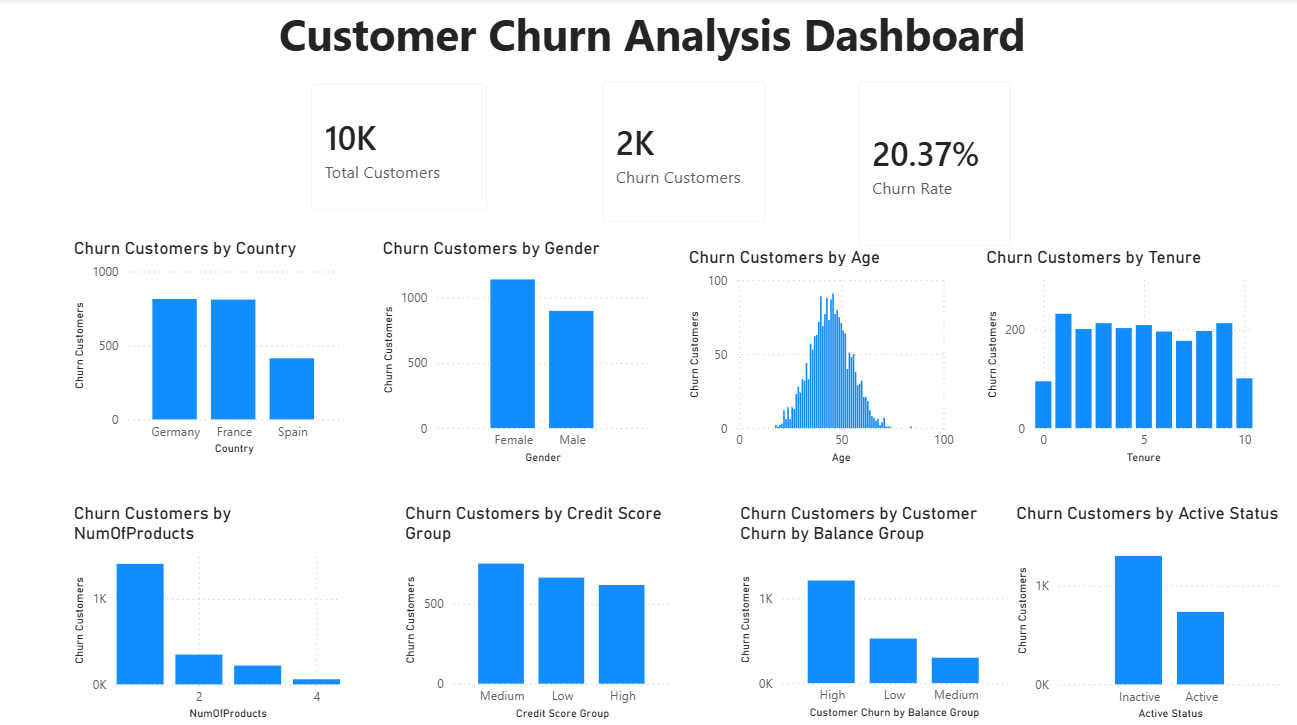

This screenshot's page, from the dashboard's own definition file:
{"tool":"powerbi","page":{"name":"Page 1","canvas":[1280,720],"ordinal":0},"visuals":[{"type":"cardVisual","fields":{"Data":["churn.Count of CustomerID"]},"box":[288.6,66,206.7,159],"z":1000},{"type":"cardVisual","fields":{"Data":["churn.Customer Exited with number 1"]},"box":[573.5,63.6,193.2,172.4],"z":2000},{"type":"cardVisual","fields":{"Data":["churn.Churn Rate"]},"box":[824.2,63.4,183.4,195.7],"z":3000},{"type":"clusteredColumnChart","fields":{"Category":["churn.Geography"],"Y":["churn.Churn Customers"]},"box":[68.5,233.9,270.2,217.7],"z":4000},{"type":"clusteredColumnChart","fields":{"Y":["churn.Churn Customers"],"Category":["churn.Gender"]},"box":[370.5,233.6,270.2,226.2],"z":5000},{"type":"clusteredColumnChart","fields":{"Y":["churn.Churn Customers"],"Category":["churn.Age"]},"box":[670.1,242.4,270.2,217.7],"z":6000},{"type":"clusteredColumnChart","fields":{"Y":["churn.Churn Customers"],"Category":["churn.Tenure"]},"box":[961.1,242.4,270.2,217.7],"z":7000},{"type":"clusteredColumnChart","fields":{"Y":["churn.Churn Customers"],"Category":["churn.NumOfProducts"]},"box":[68.5,492.9,270.2,217.7],"z":8000},{"type":"clusteredColumnChart","fields":{"Category":["churn.Active Status"],"Y":["churn.Churn Customers"]},"box":[990.5,492.9,270.2,217.7],"z":9000},{"type":"clusteredColumnChart","fields":{"Category":["churn.Credit Score Group"],"Y":["churn.Churn Customers"]},"box":[392.5,492.9,270.2,217],"z":10000},{"type":"clusteredColumnChart","fields":{"Category":["churn.Churn Customers Based on the Balance"],"Y":["churn.Churn Customers"]},"box":[720.2,492.9,270.2,216.4],"z":11000},{"type":"textbox","box":[254.3,0,769.2,74.6],"z":12000}]}

Visuals, with their boxes in screenshot pixels (x1, y1, x2, y2), scaled from the page's 1280x720 canvas onto the 1297x725 screenshot:
cardVisual - churn.Count of CustomerID: {"x1": 292, "y1": 66, "x2": 502, "y2": 227}
cardVisual - churn.Customer Exited with number 1: {"x1": 581, "y1": 64, "x2": 777, "y2": 238}
cardVisual - churn.Churn Rate: {"x1": 835, "y1": 64, "x2": 1021, "y2": 261}
clusteredColumnChart - churn.Geography x churn.Churn Customers: {"x1": 69, "y1": 236, "x2": 343, "y2": 455}
clusteredColumnChart - churn.Churn Customers x churn.Gender: {"x1": 375, "y1": 235, "x2": 649, "y2": 463}
clusteredColumnChart - churn.Churn Customers x churn.Age: {"x1": 679, "y1": 244, "x2": 953, "y2": 463}
clusteredColumnChart - churn.Churn Customers x churn.Tenure: {"x1": 974, "y1": 244, "x2": 1248, "y2": 463}
clusteredColumnChart - churn.Churn Customers x churn.NumOfProducts: {"x1": 69, "y1": 496, "x2": 343, "y2": 716}
clusteredColumnChart - churn.Active Status x churn.Churn Customers: {"x1": 1004, "y1": 496, "x2": 1277, "y2": 716}
clusteredColumnChart - churn.Credit Score Group x churn.Churn Customers: {"x1": 398, "y1": 496, "x2": 672, "y2": 715}
clusteredColumnChart - churn.Churn Customers Based on the Balance x churn.Churn Customers: {"x1": 730, "y1": 496, "x2": 1004, "y2": 714}
textbox: {"x1": 258, "y1": 0, "x2": 1037, "y2": 75}
